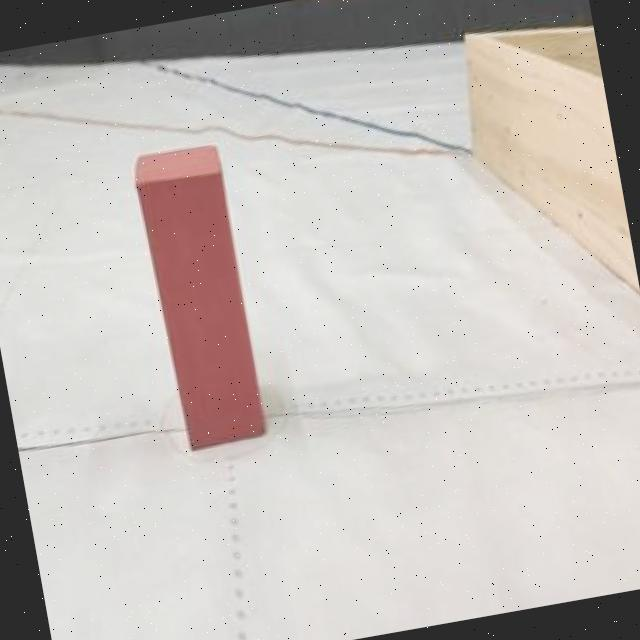redbox: (130, 138, 268, 452)
